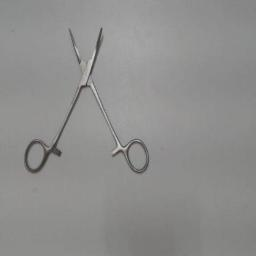Crile Artery Forceps: (20, 24, 152, 180)
